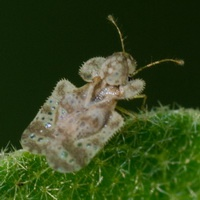insect: (21, 15, 144, 171)
